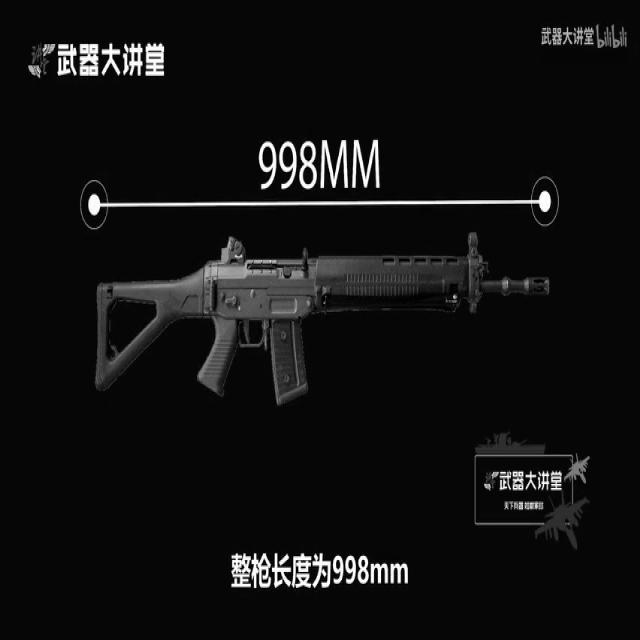Rifle: (51, 129, 609, 491)
